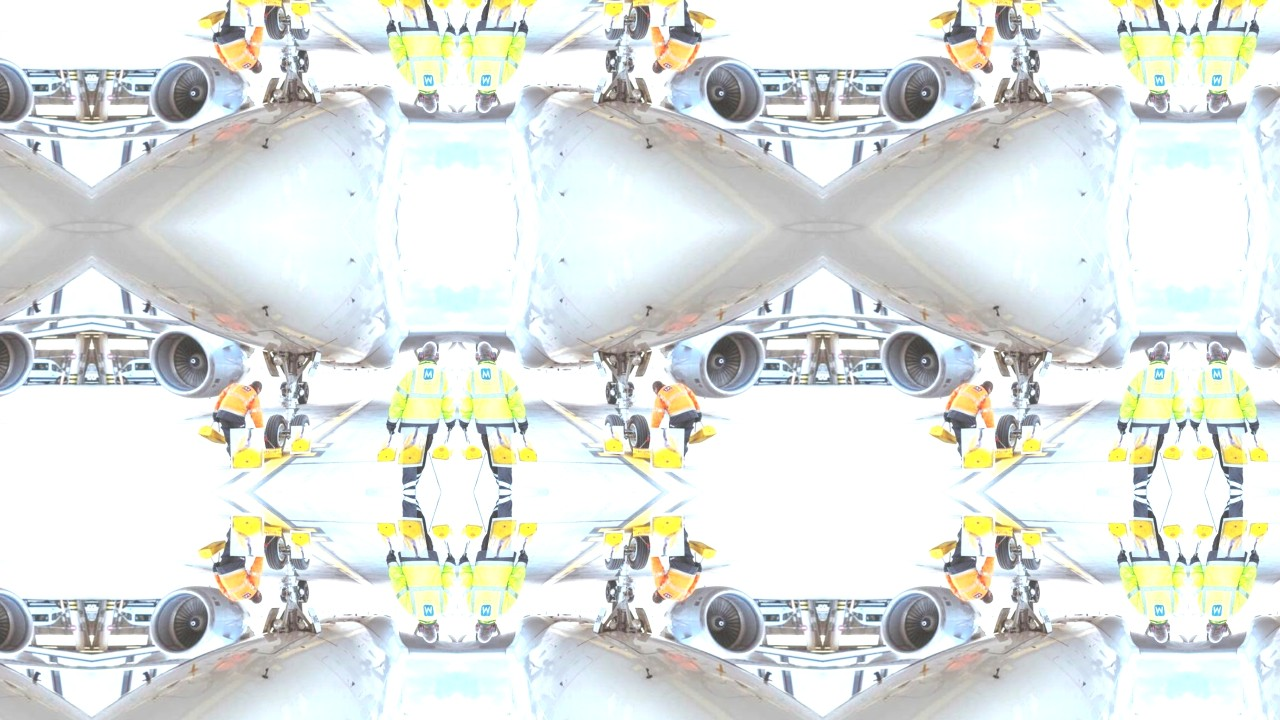chock: (229, 428, 265, 473), (649, 428, 685, 473), (961, 428, 997, 473), (229, 512, 265, 557), (649, 512, 685, 557), (961, 512, 997, 557), (394, 426, 429, 468), (485, 426, 520, 468), (1126, 426, 1161, 468), (1217, 426, 1252, 468), (394, 517, 429, 559), (485, 517, 520, 559), (1126, 517, 1161, 559), (1217, 517, 1252, 559), (394, 0, 429, 28), (485, 0, 520, 28), (1126, 0, 1161, 28), (1217, 0, 1252, 28), (229, 0, 265, 26), (649, 0, 685, 26), (961, 0, 997, 26), (374, 434, 399, 465), (515, 434, 540, 465), (1106, 434, 1131, 465), (1247, 434, 1272, 465), (374, 520, 399, 551), (515, 520, 540, 551), (1106, 520, 1131, 551), (1247, 520, 1272, 551), (196, 7, 229, 30), (685, 7, 718, 30), (928, 7, 961, 30), (196, 424, 229, 447), (685, 424, 718, 447), (928, 424, 961, 447), (196, 538, 229, 561), (685, 538, 718, 561), (928, 538, 961, 561), (289, 0, 312, 29), (602, 0, 625, 29), (1021, 0, 1044, 29), (289, 425, 312, 454), (602, 425, 625, 454), (1021, 425, 1044, 454), (289, 531, 312, 560), (602, 531, 625, 560), (1021, 531, 1044, 560), (429, 439, 457, 462), (457, 439, 485, 462), (1161, 439, 1189, 462), (1189, 439, 1217, 462), (429, 523, 457, 546), (457, 523, 485, 546), (1161, 523, 1189, 546), (1189, 523, 1217, 546), (248, 447, 282, 462), (632, 447, 666, 462), (980, 447, 1014, 462), (248, 523, 282, 538), (632, 523, 666, 538), (980, 523, 1014, 538), (374, 0, 399, 20), (515, 0, 540, 20), (1106, 0, 1131, 20), (1247, 0, 1272, 20), (429, 0, 457, 15), (457, 0, 485, 15), (1161, 0, 1189, 15), (1189, 0, 1217, 15), (248, 0, 282, 7), (632, 0, 666, 7), (980, 0, 1014, 7)
wheel: (288, 413, 312, 455), (602, 413, 626, 455), (1020, 413, 1044, 455), (288, 530, 312, 572), (602, 530, 626, 572), (1020, 530, 1044, 572), (288, 0, 312, 41), (602, 0, 626, 41), (1020, 0, 1044, 41), (264, 1, 289, 40), (625, 1, 650, 40), (996, 1, 1021, 40), (264, 414, 289, 453), (625, 414, 650, 453), (996, 414, 1021, 453), (264, 532, 289, 571), (625, 532, 650, 571), (996, 532, 1021, 571), (296, 50, 310, 73), (604, 50, 618, 73), (1028, 50, 1042, 73), (296, 381, 310, 404), (604, 381, 618, 404), (1028, 381, 1042, 404), (296, 581, 310, 604), (604, 581, 618, 604), (1028, 581, 1042, 604), (279, 60, 288, 73), (626, 60, 635, 73), (1011, 60, 1020, 73), (279, 381, 288, 394), (626, 381, 635, 394), (1011, 381, 1020, 394), (279, 591, 288, 604), (626, 591, 635, 604), (1011, 591, 1020, 604)
